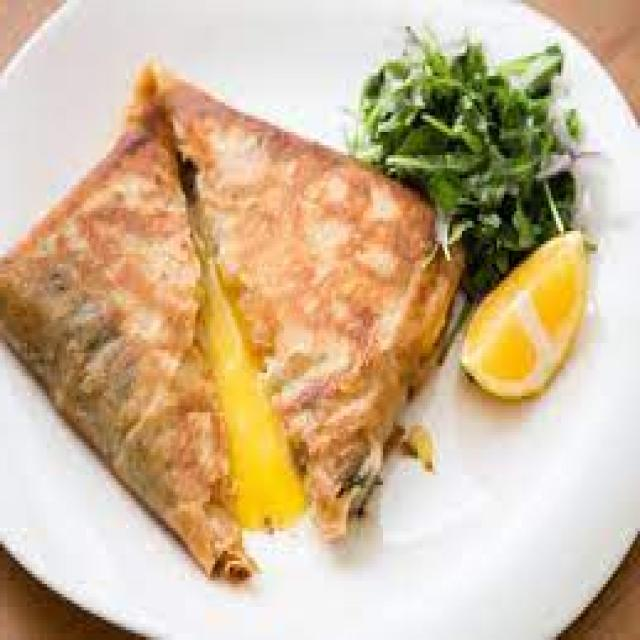brik: (157, 70, 451, 524), (2, 141, 235, 584)
